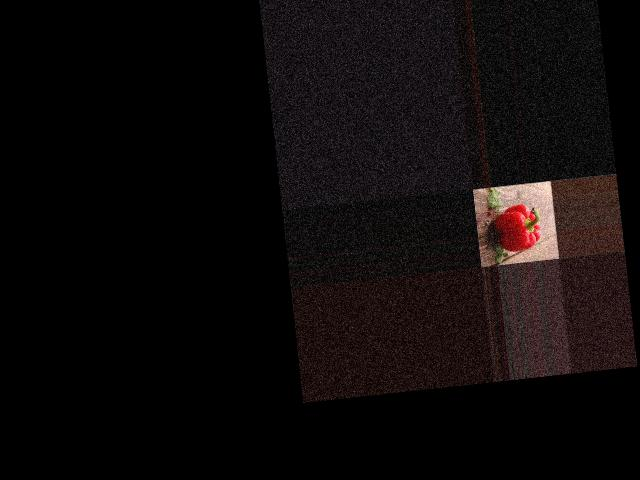bell_pepper: (491, 199, 546, 256)
